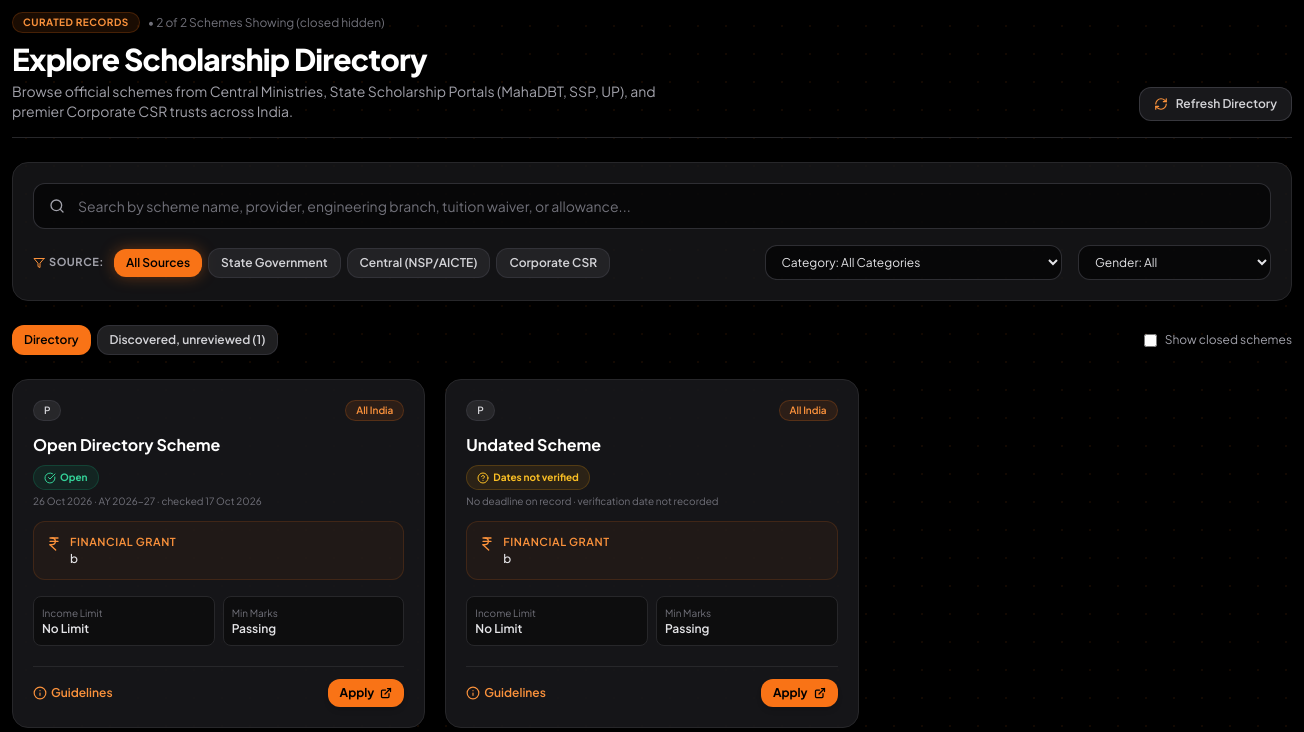
Scenario: Explore view › lists discovered programmes separately and labels them as unreviewed
The width and height of the screenshot is (1304, 732).
Check: the heading "Open Directory Scheme" is shown, box [33,434,220,455]
Click the tab "Discovered, unreviewed (1)": (188, 340) [97,325,278,355]
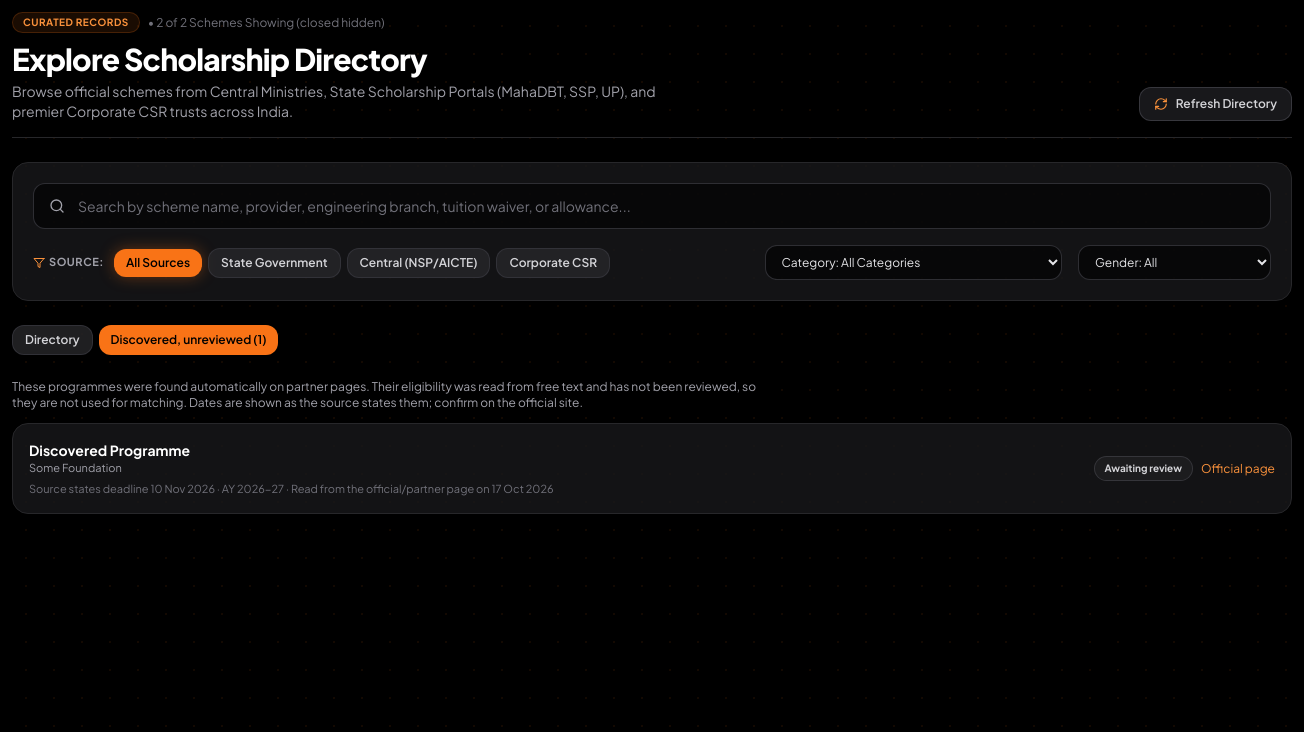
Check: the text "Discovered Programme" is shown, box [29,441,190,459]
Check: the text "Awaiting review" is shown, box [1094,456,1193,481]
Check: the text "Source states deadline" is shown, box [29,482,215,494]
